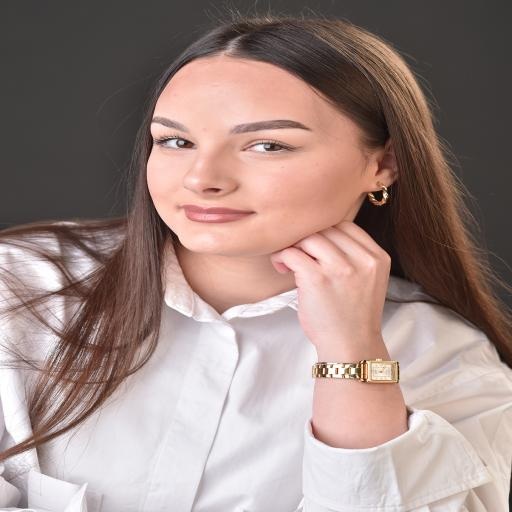marija: (145, 57, 372, 256)
